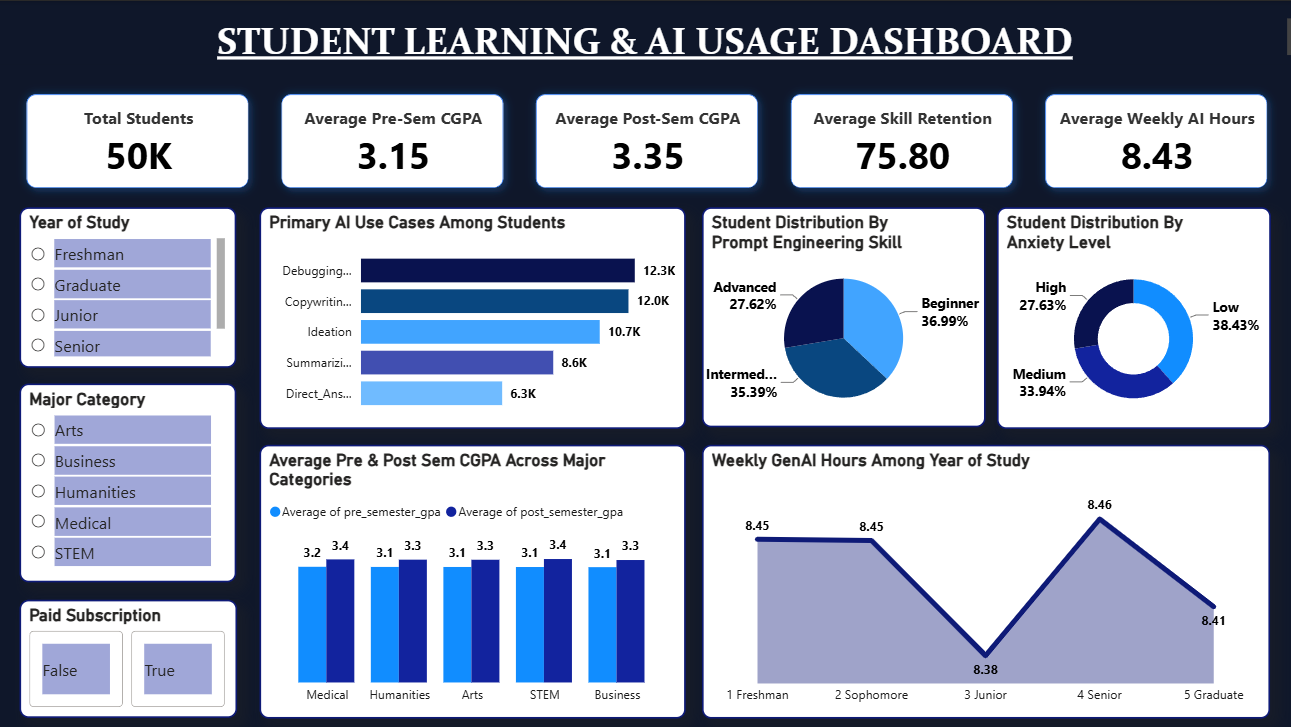

Layout of this report page (visuals, bound fields, positions):
{"tool":"powerbi","page":{"name":"Page 1","canvas":[1280,720],"ordinal":0},"visuals":[{"type":"shape","box":[0,0,1280.3,74.1],"z":0},{"type":"textbox","box":[0,12.3,1279.8,50.3],"z":1000},{"type":"cardVisual","fields":{"Data":["public student.Total Students","public student.Average Pre CGPA","public student.Average Post Semester CGPA","public student.Average Skill Retention Score","public student.Average Weekly AI Hours"]},"box":[0,62.6,1279.8,150.9],"z":2000},{"type":"clusteredBarChart","title":"Primary AI Use Cases Among Students","fields":{"Category":["public student.primary_use_case"],"Y":["Count(public student.student_id)"]},"box":[257.5,202.5,418.8,217.5],"z":3000},{"type":"clusteredColumnChart","title":"Average Pre & Post Sem CGPA Across Major Categories ","fields":{"Y":["Avg(public student.pre_semester_gpa)","Avg(public student.post_semester_gpa)"],"Category":["public student.major_category"]},"box":[257.5,435,418.8,268.8],"z":4000},{"type":"pieChart","title":"Student Distribution By Prompt Engineering Skill","fields":{"Category":["public student.prompt_engineering_skill"],"Y":["Count(public student.student_id)"]},"box":[692.5,202.5,278.8,216.2],"z":5000},{"type":"lineChart","title":"Weekly GenAI Hours Among Year of Study","fields":{"Y":["Avg(public student.weekly_genai_hours)"],"Category":["public student.Sort_Order","public student.year_of_study"]},"box":[692.5,435,557.5,268.8],"z":6000},{"type":"listSlicer","title":"Year of Study","fields":{"Values":["public student.year_of_study"]},"box":[22.5,202.5,212.5,157.5],"z":7000},{"type":"listSlicer","title":"Major Category","fields":{"Values":["public student.major_category"]},"box":[22.5,375,212.5,195],"z":8000},{"type":"advancedSlicerVisual","title":"Paid Subscription","fields":{"Values":["public student.paid_subscription"]},"box":[22.5,587.5,213.8,116.2],"z":9000},{"type":"donutChart","title":"Student Distribution By Anxiety Level","fields":{"Y":["Count(public student.student_id)"],"Category":["public student.anxiety_level"]},"box":[981.2,202.5,268.8,217.5],"z":10000}]}

Visuals, with their boxes in screenshot pixels (x1, y1, x2, y2), scaled from the page's 1280x720 canvas onto the 1291x727 screenshot:
shape: rect(0, 0, 1290, 75)
textbox: rect(0, 12, 1290, 63)
cardVisual - public student.Total Students x public student.Average Pre CGPA: rect(0, 63, 1290, 216)
"Primary AI Use Cases Among Students" clusteredBarChart: rect(260, 204, 682, 424)
"Average Pre & Post Sem CGPA Across Major Categories " clusteredColumnChart: rect(260, 439, 682, 711)
"Student Distribution By Prompt Engineering Skill" pieChart: rect(698, 204, 980, 423)
"Weekly GenAI Hours Among Year of Study" lineChart: rect(698, 439, 1261, 711)
"Year of Study" listSlicer: rect(23, 204, 237, 364)
"Major Category" listSlicer: rect(23, 379, 237, 576)
"Paid Subscription" advancedSlicerVisual: rect(23, 593, 238, 711)
"Student Distribution By Anxiety Level" donutChart: rect(990, 204, 1261, 424)
